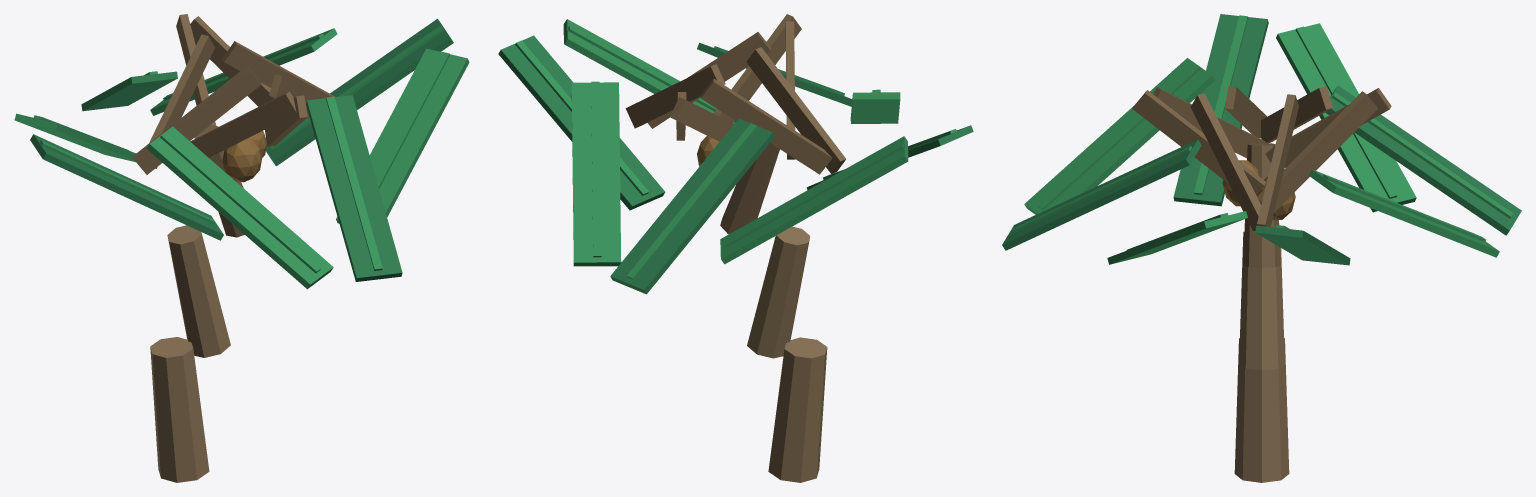
File: loc_sy_coco.glb
3 views of the same model, side by side, from view 1: azimuth 30°, elevation 25°; view 2: azimuth 150°, elevation 25°; view 3: azimuth 270°, elevation 25° (orthographic). The views are drawn at different scales.
Visible parts, largest first — view 1: frond_blade_6, Cone, frond_blade_5, frond_blade_7, Cone.001, frond_blade_0, frond_blade_4, frond_stem_4, frond_stem_5, frond_stem_3, frond_blade_2, frond_stem_0 (+13 smaller); view 2: frond_blade_1, frond_blade_2, Cone, Cone.001, frond_blade_0, frond_blade_3, frond_stem_3, frond_stem_4, Cone.002, frond_blade_7, frond_stem_0, frond_rib_2 (+11 smaller); view 3: Cone, frond_blade_3, frond_blade_4, frond_blade_5, frond_blade_2, Cone.001, frond_blade_6, frond_stem_1, frond_stem_7, frond_stem_6, frond_blade_1, frond_stem_0 (+13 smaller).
Part boxes in pixels (x1,y1,x2,y2): frond_blade_6: (306, 95, 402, 281); Cone: (150, 337, 209, 482); frond_blade_5: (146, 126, 333, 289); frond_blade_7: (336, 48, 469, 223); Cone.001: (167, 225, 230, 357); frond_blade_0: (266, 18, 453, 166); frond_blade_4: (30, 134, 223, 240); frond_stem_4: (132, 66, 261, 174); frond_stem_5: (190, 91, 296, 157); frond_stem_3: (149, 34, 214, 168); frond_blade_2: (81, 71, 177, 111); frond_stem_0: (222, 41, 335, 98); frond_blade_1: (571, 82, 621, 266); frond_blade_2: (610, 118, 774, 294); Cone: (768, 337, 827, 482); Cone.001: (747, 226, 810, 358); frond_blade_0: (498, 35, 665, 210); frond_blade_3: (720, 136, 908, 264); frond_stem_3: (700, 78, 832, 174); frond_stem_4: (746, 47, 845, 173); Cone.002: (720, 143, 779, 234); frond_blade_7: (563, 19, 734, 123); frond_stem_0: (625, 64, 725, 128); frond_rib_2: (627, 123, 757, 279); Cone: (1234, 338, 1289, 482); frond_blade_3: (1276, 23, 1416, 212); frond_blade_4: (1173, 14, 1268, 206); frond_blade_5: (1024, 58, 1215, 214); frond_blade_2: (1325, 85, 1521, 235); Cone.001: (1239, 231, 1284, 370); frond_blade_6: (1002, 139, 1201, 250); frond_stem_1: (1257, 91, 1377, 212); frond_stem_7: (1190, 93, 1261, 231); frond_stem_6: (1132, 90, 1266, 194); frond_blade_1: (1308, 169, 1499, 257); frond_stem_0: (1257, 94, 1298, 226).
Size of the model in its own units: 3.62 by 3.19 by 3.62.
